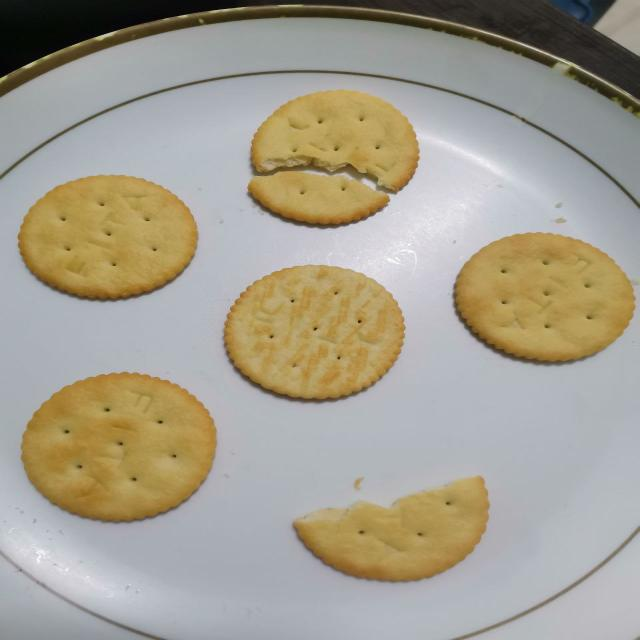broken biscuit: (264, 449, 522, 594), (226, 89, 427, 223)
intact biscuit: (19, 370, 218, 523), (221, 263, 406, 401), (452, 230, 636, 363), (16, 172, 199, 300)
